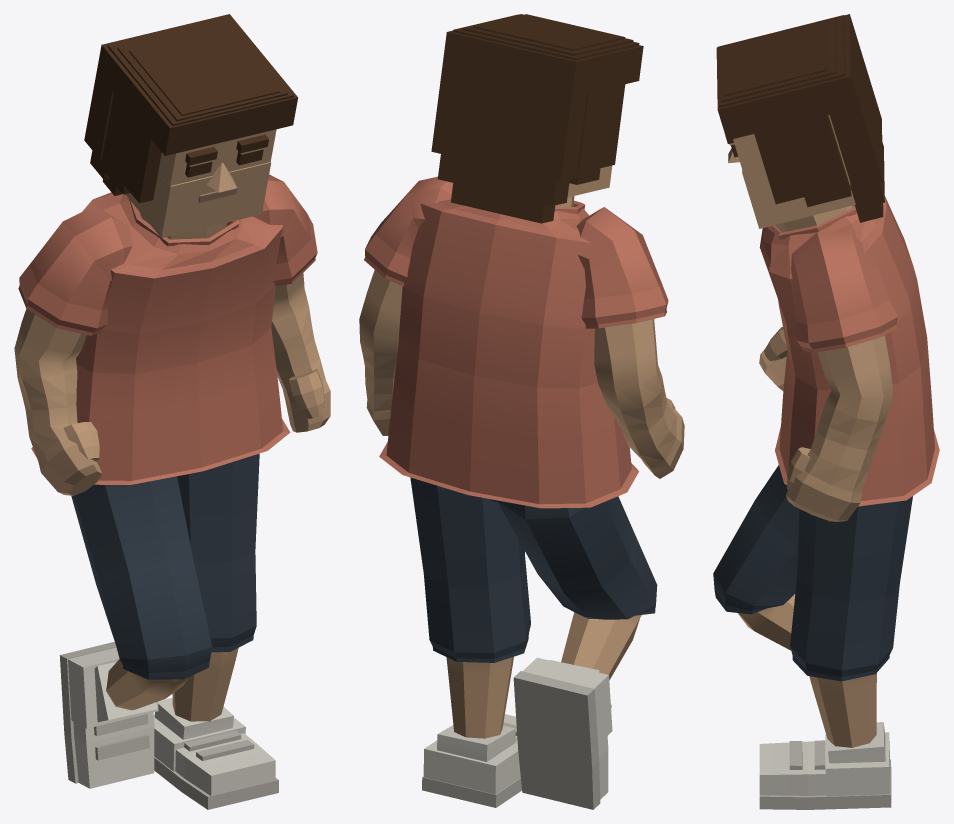
The model's file is neighborhood-child-8cc5ac__walk2.glb.
3 views of the same model, side by side, from view 1: azimuth 30°, elevation 25°; view 2: azimuth 150°, elevation 25°; view 3: azimuth 270°, elevation 25° (orthographic). The views are drawn at different scales.
Parts seen in each view (by area): view 1: neighborhood-child-8cc5ac__walk2; view 2: neighborhood-child-8cc5ac__walk2; view 3: neighborhood-child-8cc5ac__walk2.
Boxes of the visible parts, left/top/right/bottom form: neighborhood-child-8cc5ac__walk2: left=14, top=14, right=330, bottom=809; neighborhood-child-8cc5ac__walk2: left=359, top=14, right=684, bottom=809; neighborhood-child-8cc5ac__walk2: left=713, top=14, right=939, bottom=809.
Size of the model in its own units: 0.485 by 1.18 by 0.3299.
